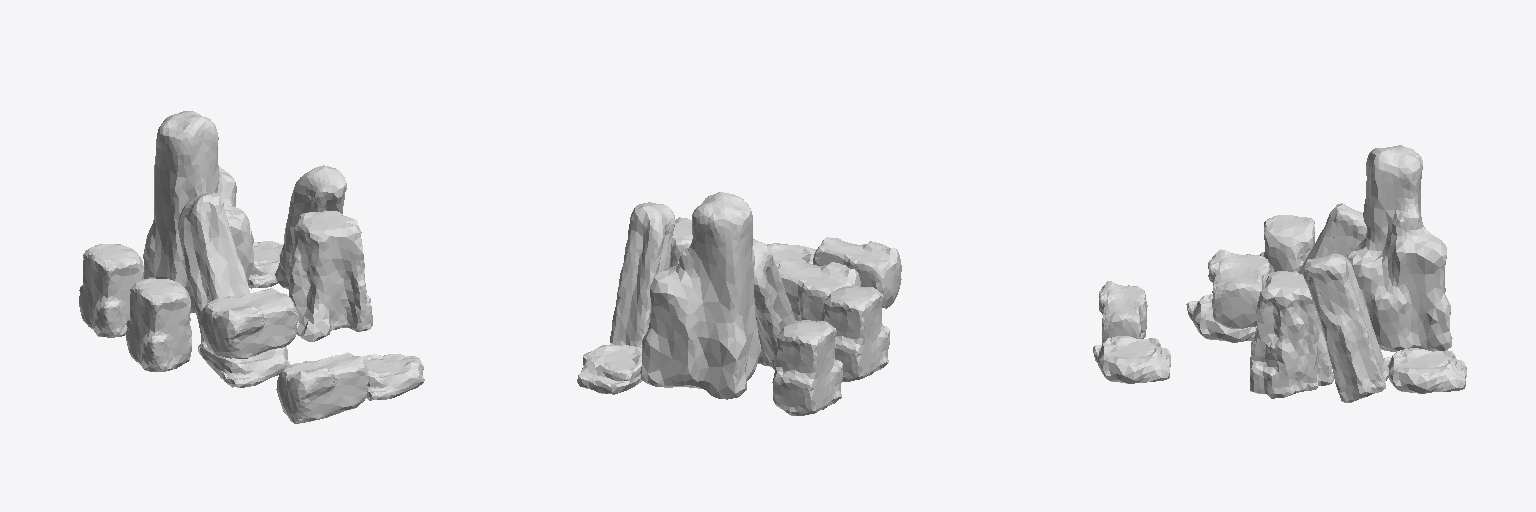
The model's file is Quarry.obj.
The picture shows the model from 3 angles: view 1: azimuth 30°, elevation 25°; view 2: azimuth 150°, elevation 25°; view 3: azimuth 270°, elevation 25°; orthographic projection.
Visible parts, largest first — view 1: RockSet06-A, RockSet06-D, RockSet06-C, RockSet06-B.003, RockSet06-B, RockSet06-B.002, RockSet06-B.001, RockSet06-C.001, RockSet06-E, RockSet06-E.002, RockSet06-E.001; view 2: RockSet06-A, RockSet06-B.001, RockSet06-C.001, RockSet06-B, RockSet06-B.002, RockSet06-B.003, RockSet06-C, RockSet06-E.001, RockSet06-D, RockSet06-E; view 3: RockSet06-A, RockSet06-D, RockSet06-C.001, RockSet06-B.003, RockSet06-E.001, RockSet06-E, RockSet06-B, RockSet06-B.002, RockSet06-C, RockSet06-E.002.
Part boxes in pixels (x1,y1,x2,y2): RockSet06-A: (143, 111, 253, 312); RockSet06-D: (289, 210, 372, 341); RockSet06-C: (178, 193, 249, 342); RockSet06-B.003: (199, 288, 298, 358); RockSet06-B: (126, 278, 191, 371); RockSet06-B.002: (276, 352, 369, 423); RockSet06-B.001: (79, 244, 143, 337); RockSet06-C.001: (275, 165, 346, 289); RockSet06-E: (360, 354, 424, 400); RockSet06-E.002: (198, 341, 290, 387); RockSet06-E.001: (248, 241, 283, 288); RockSet06-A: (640, 192, 761, 399); RockSet06-B.001: (772, 320, 842, 415); RockSet06-C.001: (610, 202, 674, 347); RockSet06-B: (821, 285, 889, 381); RockSet06-B.002: (813, 237, 901, 308); RockSet06-B.003: (777, 259, 860, 321); RockSet06-C: (753, 239, 795, 369); RockSet06-E.001: (577, 344, 641, 394); RockSet06-D: (669, 217, 692, 267); RockSet06-E: (766, 243, 816, 266); RockSet06-A: (1347, 145, 1452, 351); RockSet06-D: (1250, 271, 1333, 398); RockSet06-C.001: (1303, 254, 1388, 402); RockSet06-B.003: (1208, 249, 1271, 328); RockSet06-E.001: (1384, 348, 1466, 393); RockSet06-E: (1093, 336, 1170, 383); RockSet06-B: (1260, 215, 1314, 272); RockSet06-B.002: (1099, 281, 1147, 343); RockSet06-C: (1299, 203, 1366, 273); RockSet06-E.002: (1186, 294, 1256, 342).
Size of the model in its own units: 68.54 by 57.23 by 94.9.